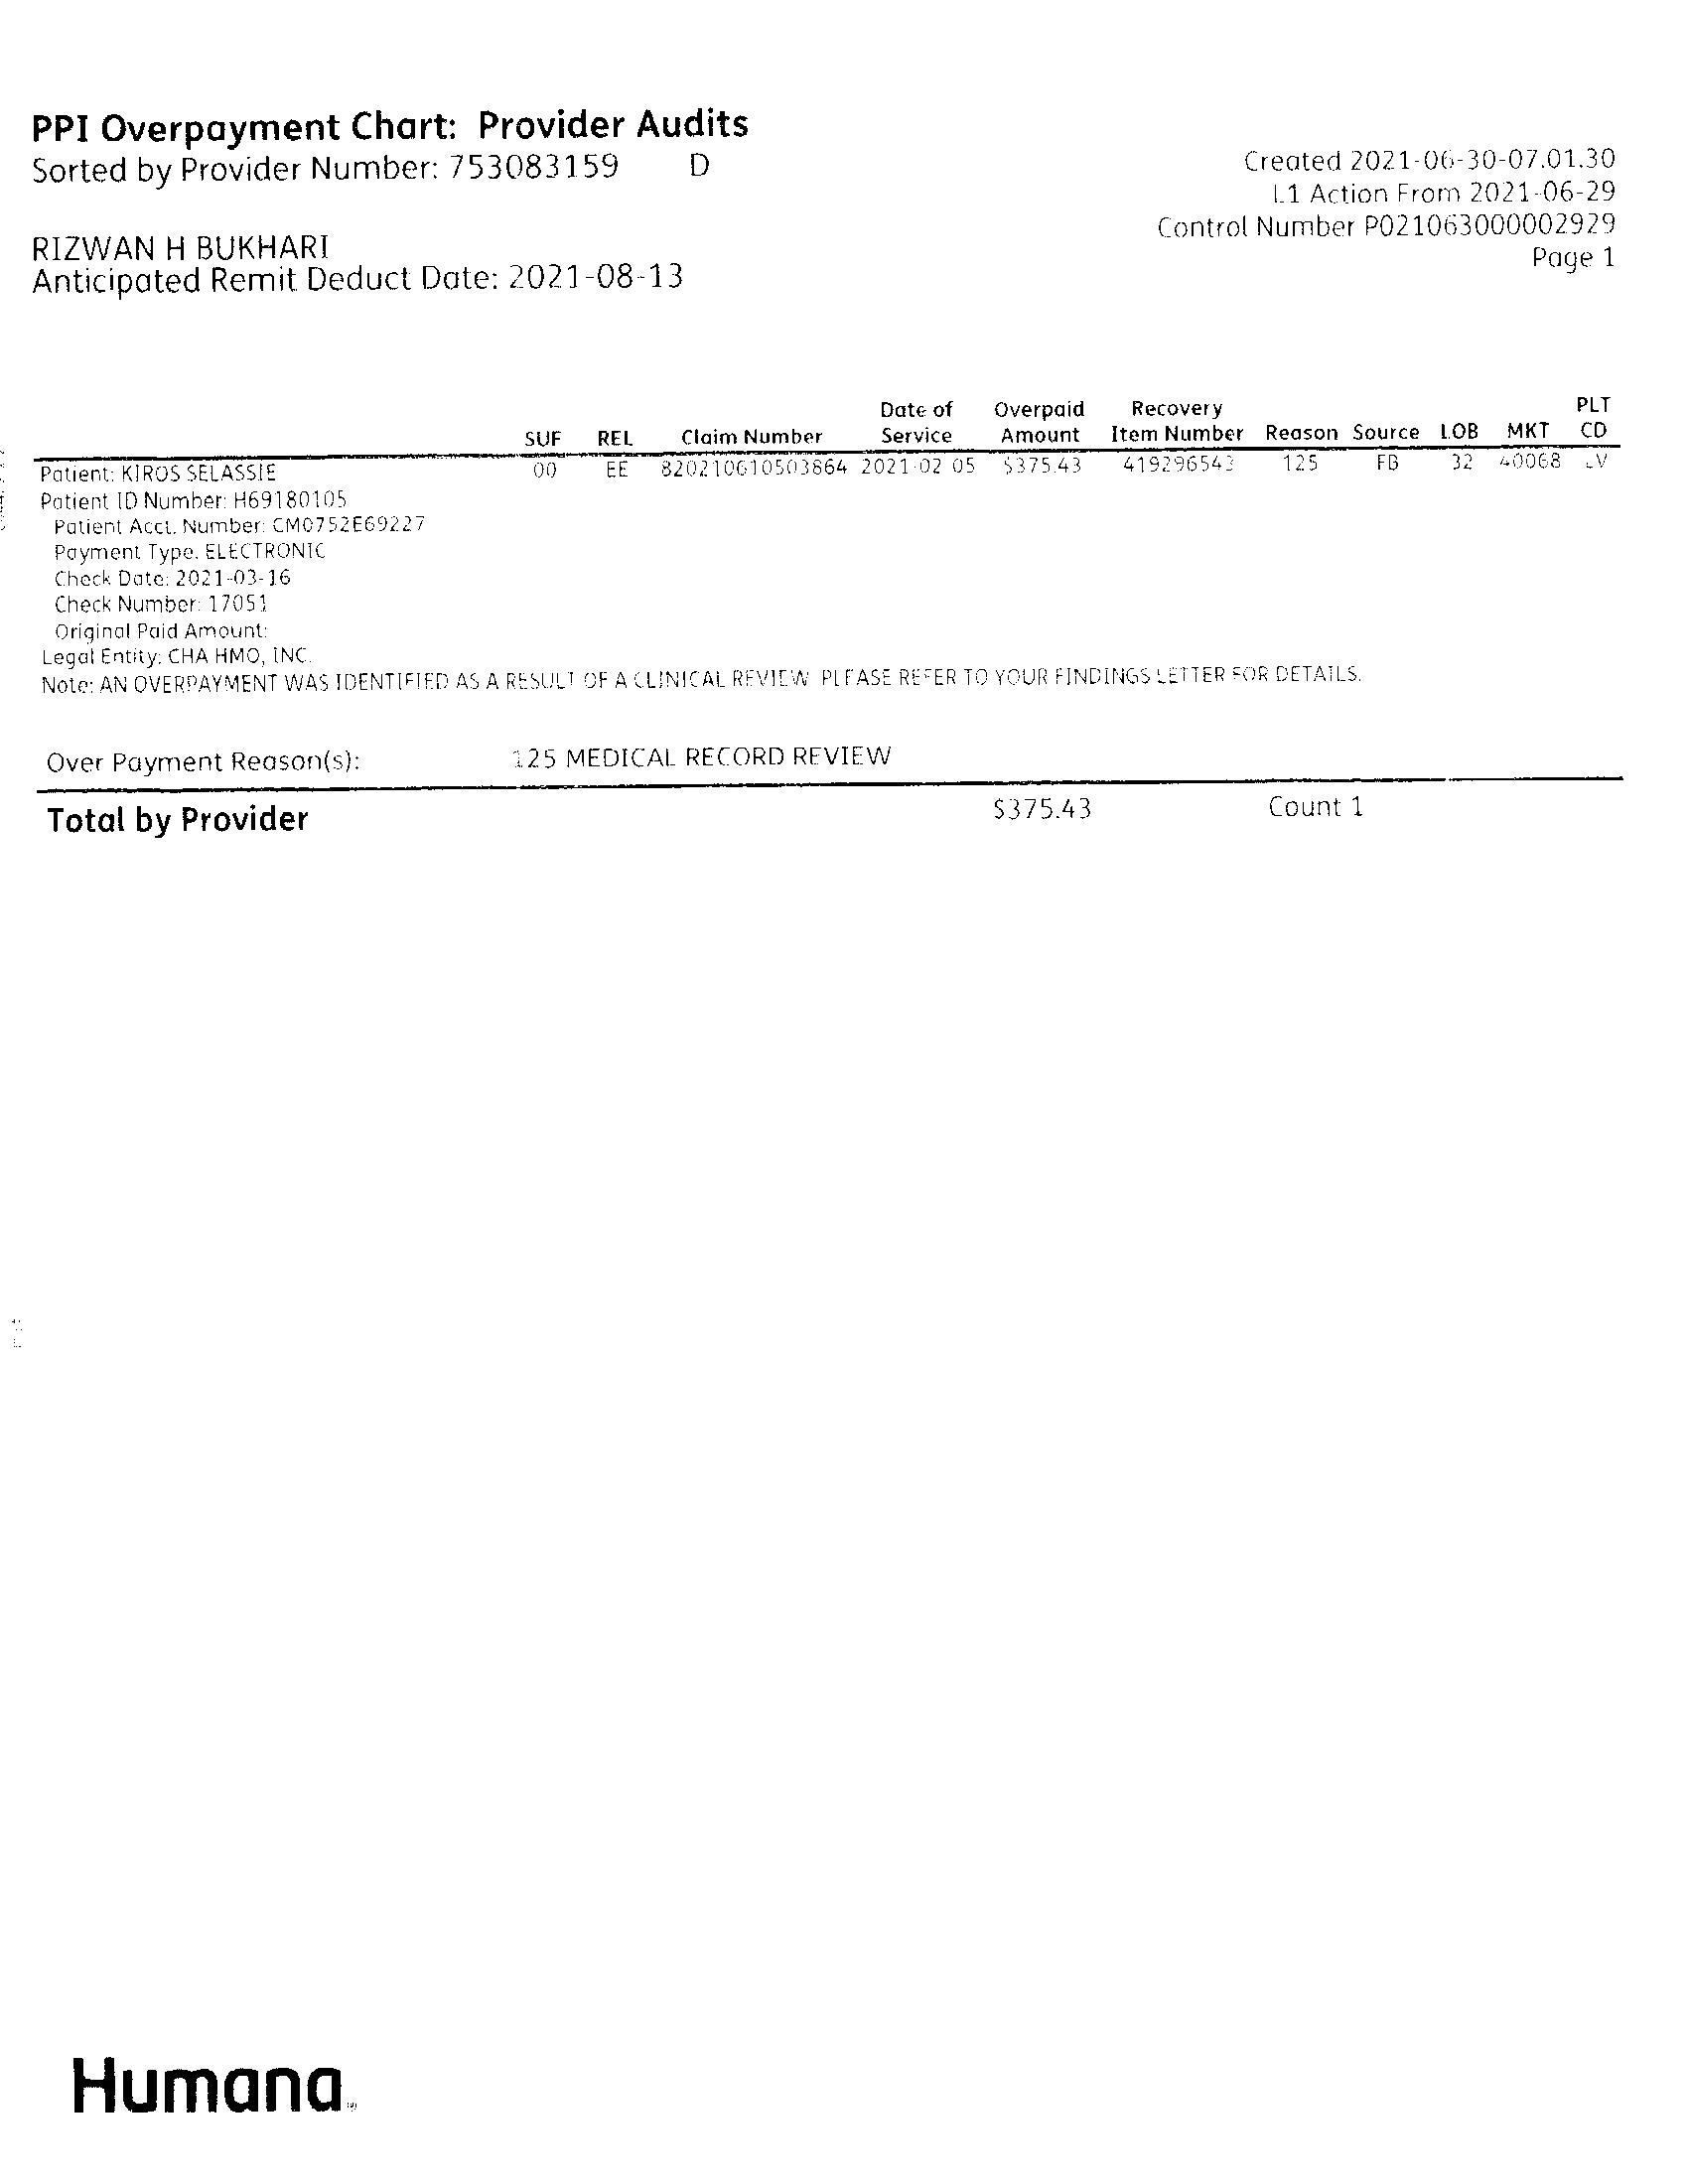table: (7, 374, 1656, 842)
